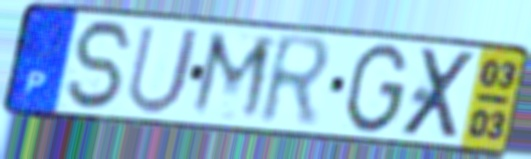G: (340, 41, 412, 137)
M: (185, 28, 279, 126)
R: (255, 31, 337, 131)
S: (64, 17, 138, 114)
U: (122, 22, 204, 118)
X: (396, 46, 482, 141)
